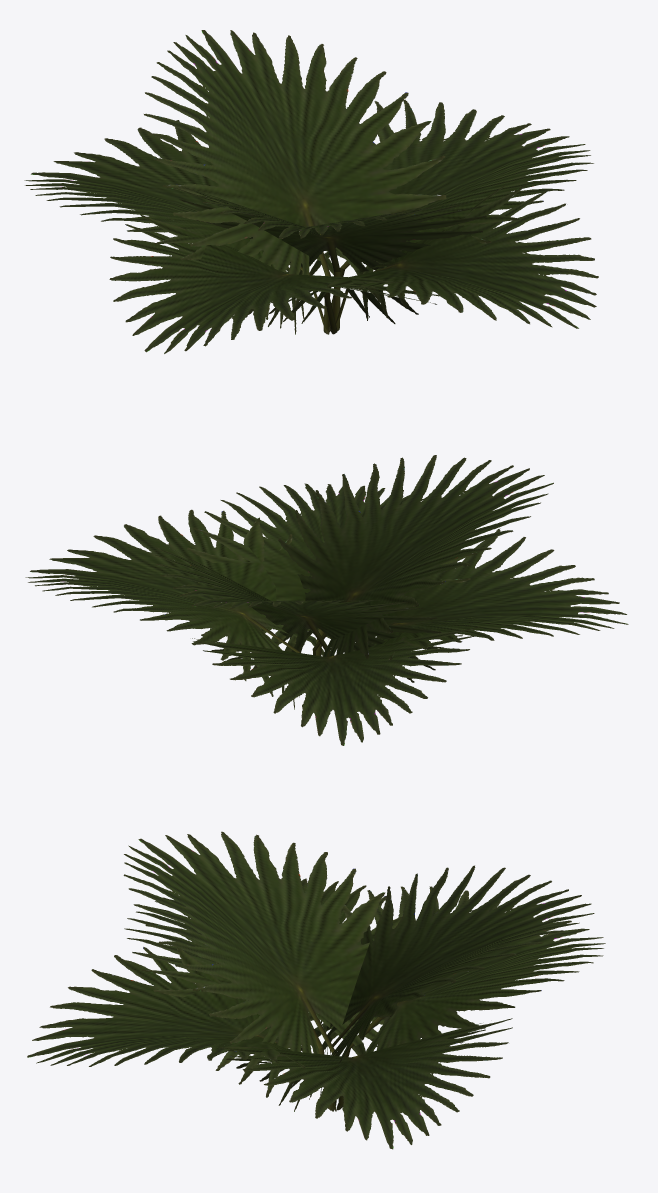
File: SM_Plant_01.glb
3 views of the same model, one above another, from view 1: azimuth 30°, elevation 25°; view 2: azimuth 150°, elevation 25°; view 3: azimuth 270°, elevation 25° (orthographic). The views are drawn at different scales.
Parts seen in each view (by area): view 1: SM_Plant_01; view 2: SM_Plant_01; view 3: SM_Plant_01.
Part boxes in pixels (bbox=[...]): SM_Plant_01: bbox=[24, 30, 598, 353]; SM_Plant_01: bbox=[25, 455, 628, 745]; SM_Plant_01: bbox=[27, 831, 605, 1149].
Bounding box in the file's own units: 2.59 × 0.9314 × 2.54.
1 material, 1 textured.
